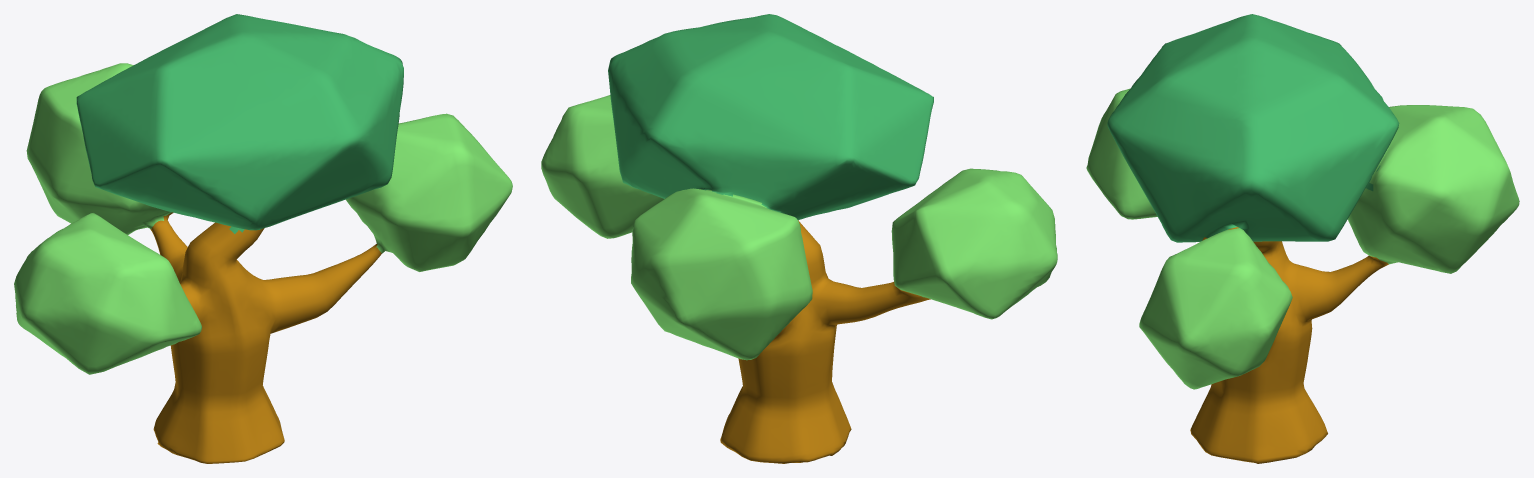
Rendered from 4Trees.fbx.
3 renders of one model, left to right at view 1: azimuth 30°, elevation 25°; view 2: azimuth 150°, elevation 25°; view 3: azimuth 270°, elevation 25°, orthographic. The views are drawn at different scales.
Visible parts, largest first — view 1: дерево; view 2: дерево; view 3: дерево.
Part boxes in pixels (box(x1,y1,x2,y2)): дерево: box(14, 14, 512, 463); дерево: box(541, 14, 1057, 463); дерево: box(1086, 14, 1519, 463).
Size of the model in its own units: 396 by 307 by 298.
